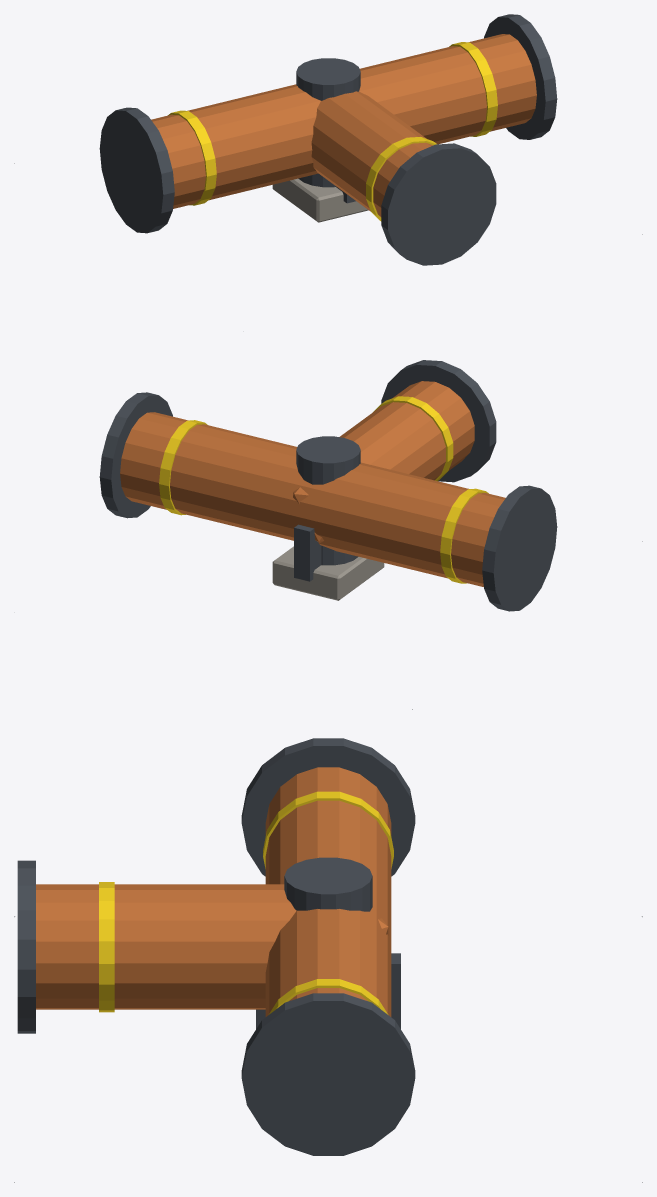
File: tuyau_te_t1.glb
The picture shows the model from 3 angles, top to bottom: view 1: azimuth 30°, elevation 25°; view 2: azimuth 150°, elevation 25°; view 3: azimuth 270°, elevation 25°; orthographic projection. The views are drawn at different scales.
Visible parts, largest first — view 1: pieces_cuivre.016, pieces_acier_sombre.044, pieces_rive_t1.014, pieces_beton.044; view 2: pieces_cuivre.016, pieces_acier_sombre.044, pieces_rive_t1.014, pieces_beton.044; view 3: pieces_cuivre.016, pieces_acier_sombre.044, pieces_rive_t1.014.
Boxes of the visible parts, left/top/right/bottom form: pieces_cuivre.016: left=151, top=34, right=536, bottom=217; pieces_acier_sombre.044: left=99, top=14, right=557, bottom=265; pieces_rive_t1.014: left=168, top=42, right=497, bottom=221; pieces_beton.044: left=272, top=178, right=368, bottom=222; pieces_cuivre.016: left=120, top=381, right=505, bottom=586; pieces_acier_sombre.044: left=99, top=360, right=557, bottom=611; pieces_rive_t1.014: left=159, top=396, right=488, bottom=583; pieces_beton.044: left=272, top=546, right=384, bottom=600; pieces_cuivre.016: left=36, top=767, right=391, bottom=1016; pieces_acier_sombre.044: left=17, top=738, right=415, bottom=1155; pieces_rive_t1.014: left=99, top=791, right=393, bottom=1014.
Size of the model in its own units: 1 by 0.318 by 1.
